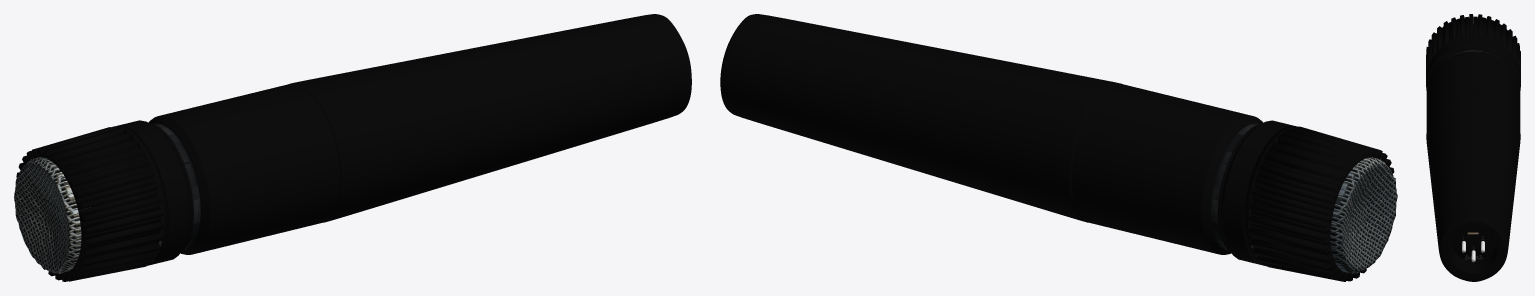
Rendered from shure_sm57_dynamic_microphone.glb.
The picture shows the model from 3 angles, left to right: view 1: azimuth 30°, elevation 25°; view 2: azimuth 150°, elevation 25°; view 3: azimuth 270°, elevation 25°; orthographic projection. The views are drawn at different scales.
Parts seen in each view (by area): view 1: Object_6, Object_4, Object_22, Object_8, Object_18; view 2: Object_6, Object_4, Object_22, Object_8, Object_18; view 3: Object_6, Object_4, Object_22, Object_10, Object_18, Object_28.
Part boxes in pixels (left/top/right/bottom): Object_6: left=290, top=14, right=691, bottom=222; Object_4: left=115, top=84, right=340, bottom=265; Object_22: left=16, top=126, right=163, bottom=281; Object_8: left=14, top=157, right=81, bottom=273; Object_18: left=132, top=123, right=200, bottom=250; Object_6: left=720, top=14, right=1122, bottom=222; Object_4: left=1071, top=84, right=1297, bottom=265; Object_22: left=1248, top=126, right=1395, bottom=281; Object_8: left=1330, top=157, right=1397, bottom=273; Object_18: left=1211, top=123, right=1277, bottom=250; Object_6: left=1426, top=93, right=1520, bottom=281; Object_4: left=1426, top=35, right=1520, bottom=130; Object_22: left=1426, top=14, right=1520, bottom=77; Object_10: left=1471, top=241, right=1484, bottom=262; Object_18: left=1445, top=50, right=1501, bottom=59; Object_28: left=1463, top=236, right=1483, bottom=260.
Size of the model in its own units: 3.53 by 0.7049 by 0.7049.
9 materials, 5 textured.
